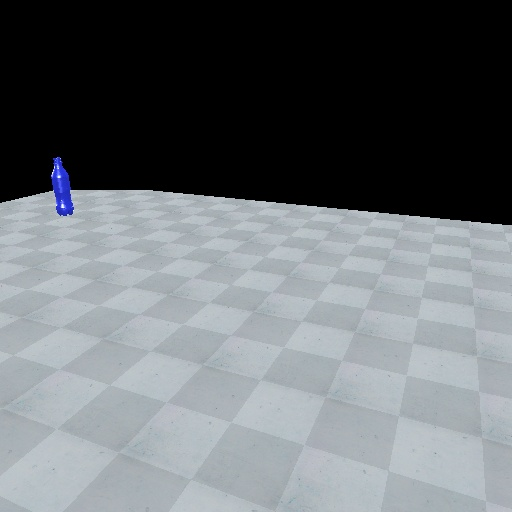bottle: (48, 155, 76, 219)
